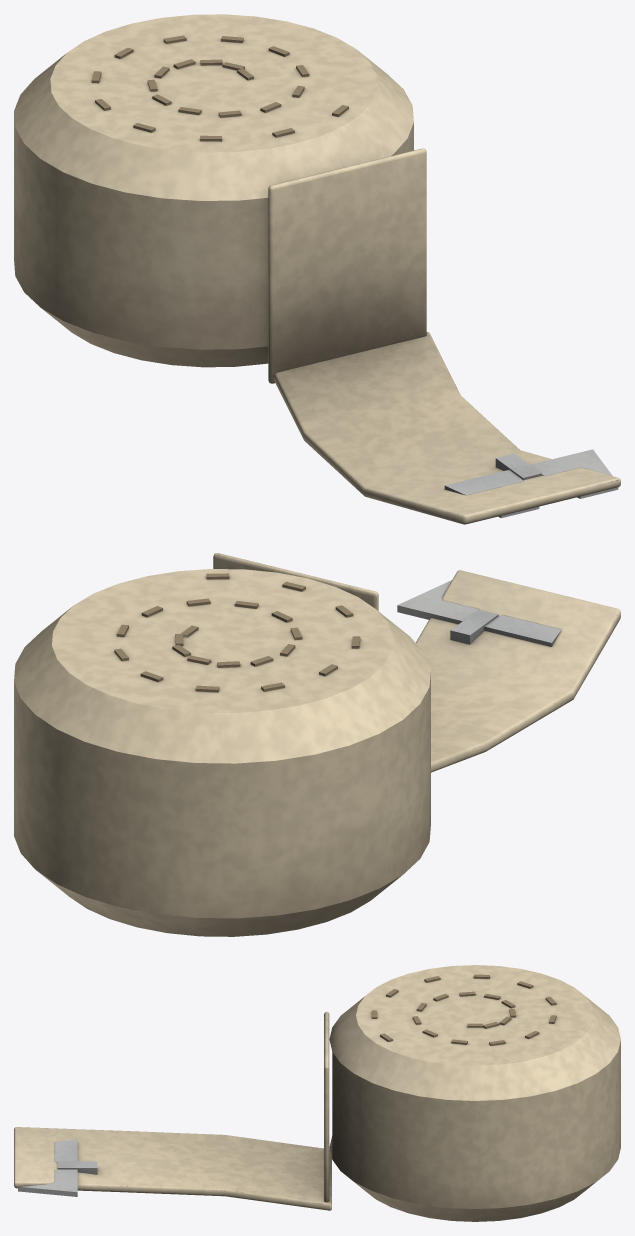
Rendered from bandage.fbx.
3 views of the same model, one above another, from view 1: azimuth 30°, elevation 25°; view 2: azimuth 150°, elevation 25°; view 3: azimuth 270°, elevation 25° (orthographic). The views are drawn at different scales.
Parts seen in each view (by area): view 1: Body; view 2: Body; view 3: Body.
Part boxes in pixels (x1=…): Body: x1=14, y1=14, x2=620, y2=524; Body: x1=14, y1=553, x2=620, y2=936; Body: x1=14, y1=965, x2=620, y2=1221.
Bounding box in the file's own units: 0.22 × 0.1315 × 0.458.
1 material, 1 textured.
